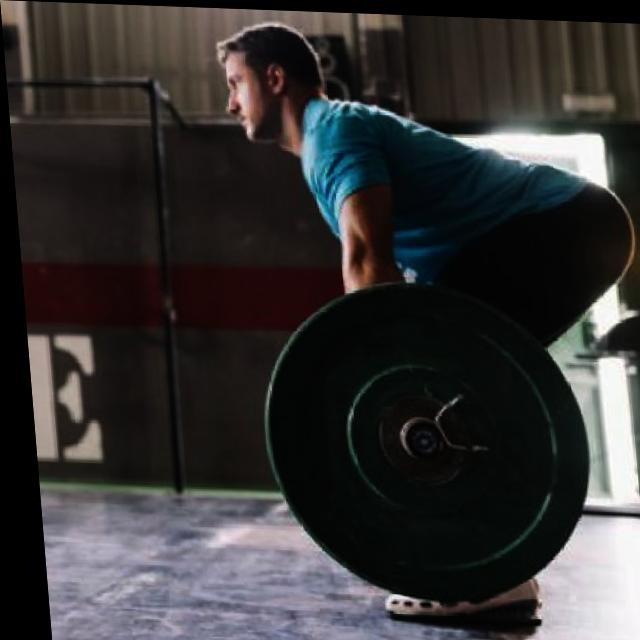barbell: (239, 266, 601, 606)
